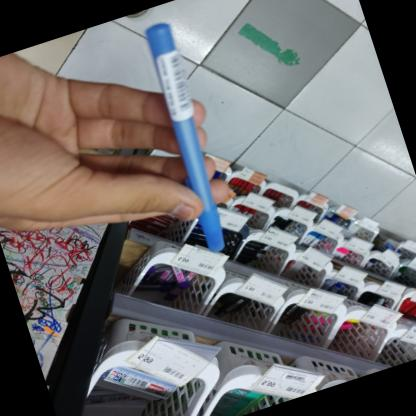pencil: (132, 17, 246, 256)
